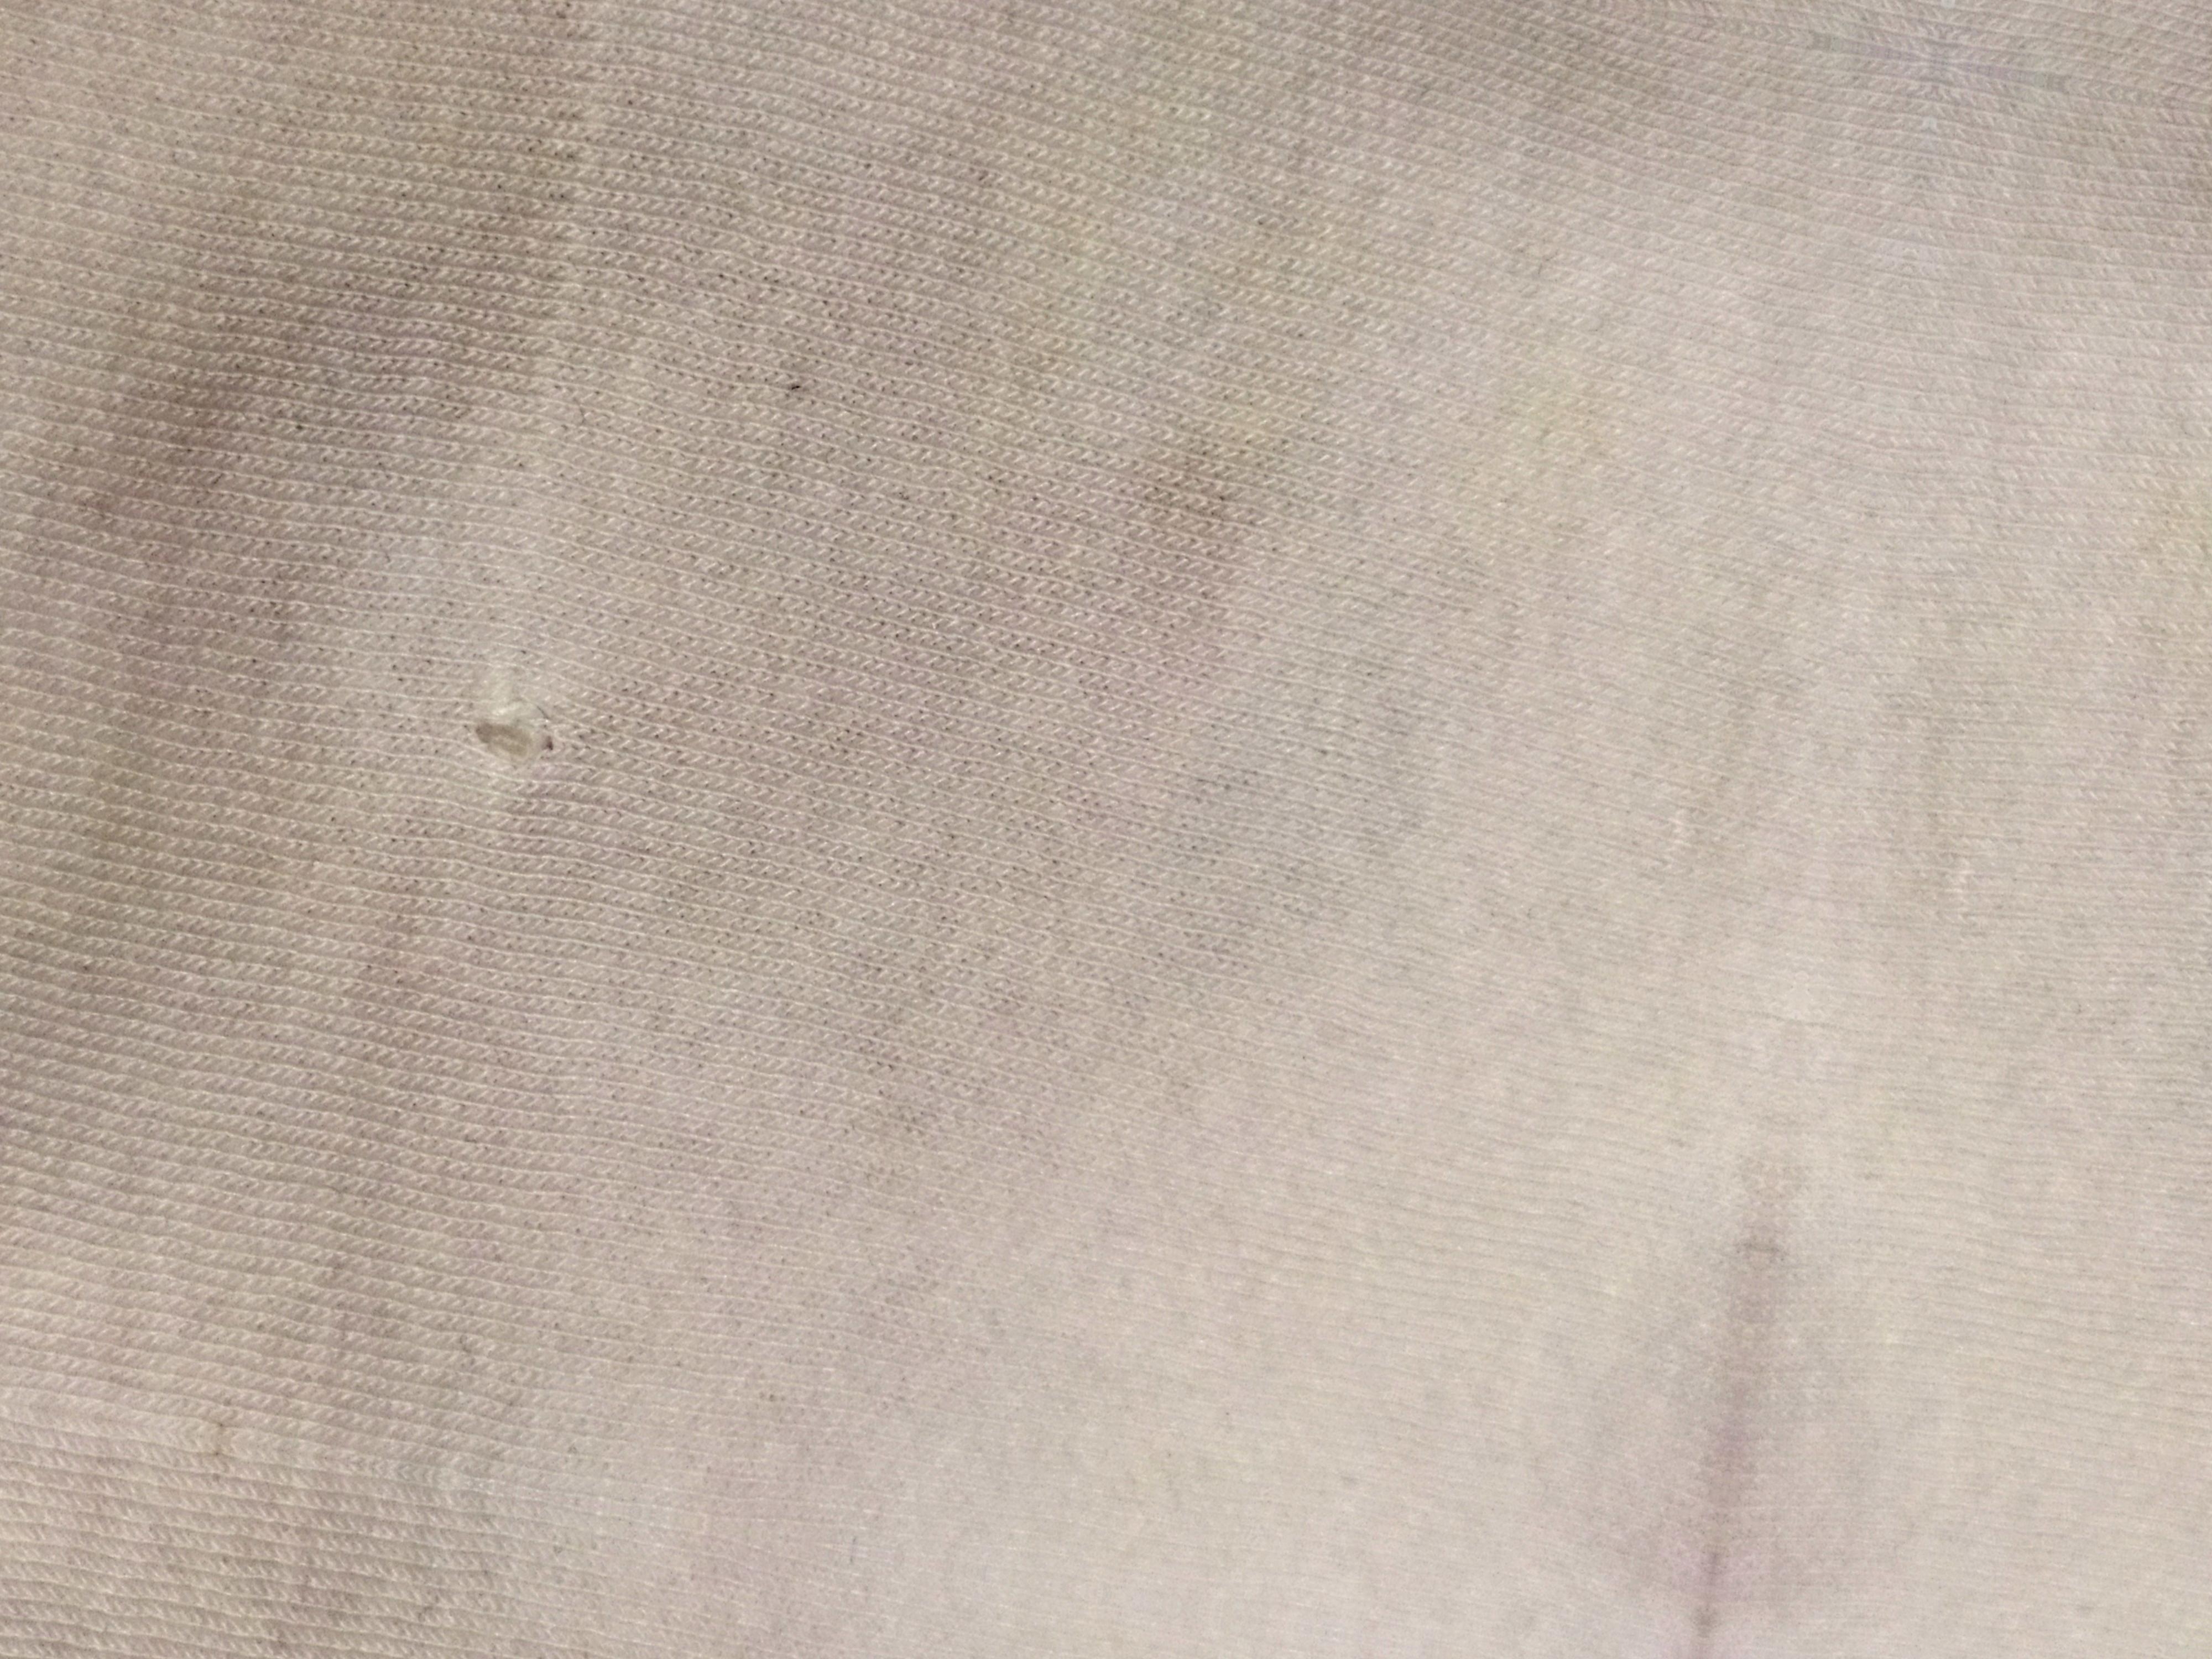knot: (458, 667, 622, 805)
